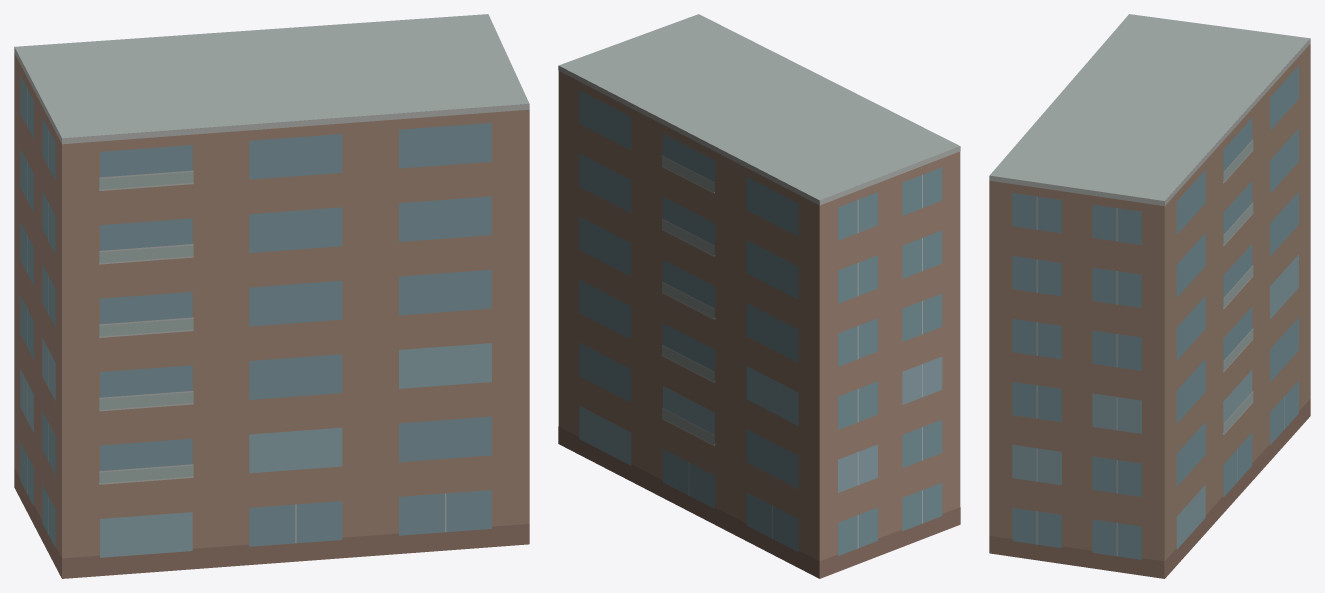
The model's file is survey-upis-33030264.glb.
3 renders of one model, left to right at view 1: azimuth 30°, elevation 25°; view 2: azimuth 150°, elevation 25°; view 3: azimuth 270°, elevation 25°, orthographic. The views are drawn at different scales.
Visible parts, largest first — view 1: survey-upis-33030264.tmp; view 2: survey-upis-33030264.tmp; view 3: survey-upis-33030264.tmp.
Boxes of the visible parts, x1,y1,x2,y2 form: survey-upis-33030264.tmp: [14, 14, 529, 578]; survey-upis-33030264.tmp: [558, 14, 960, 578]; survey-upis-33030264.tmp: [989, 14, 1310, 578].
Bounding box in the file's own units: 19.24 × 18.1 × 13.95.
